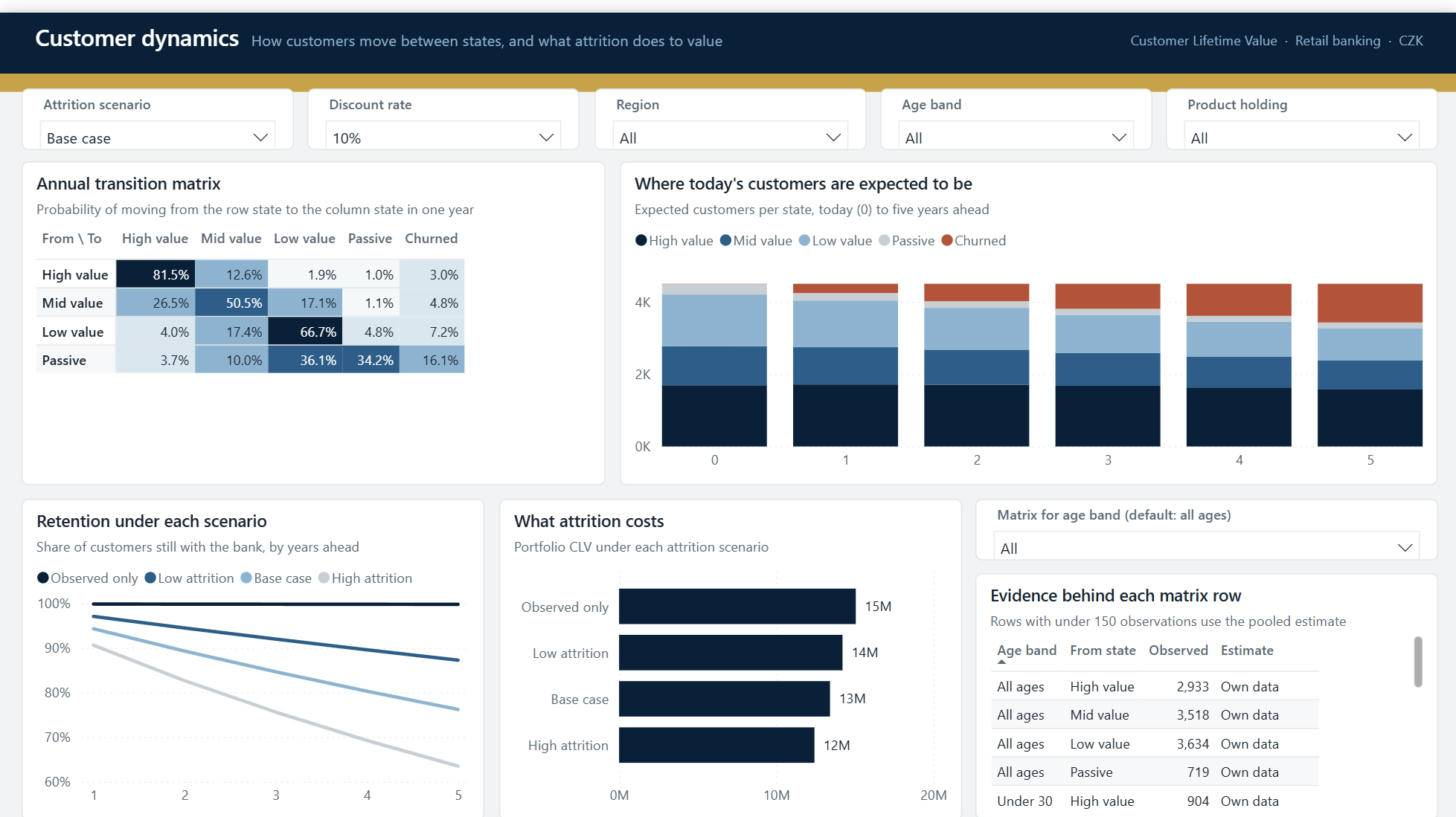

The dashboard page shown, as its layout file describes it:
{"tool":"powerbi","page":{"name":"Customer dynamics","canvas":[1280,720],"ordinal":1},"visuals":[{"type":"textbox","box":[0,0,1280,54],"z":1000},{"type":"textbox","box":[0,54,1280,3],"z":2000},{"type":"textbox","box":[20,0,760,54],"z":3000},{"type":"textbox","box":[840,8,420,44],"z":4000},{"type":"slicer","fields":{"Values":["Scenario.Scenario"]},"box":[20,66,238.4,54],"z":5000},{"type":"slicer","fields":{"Values":["Discount Rate.Discount rate"]},"box":[270.4,66,238.4,54],"z":6000},{"type":"slicer","fields":{"Values":["Customer.Region"]},"box":[520.8,66,238.4,54],"z":7000},{"type":"slicer","fields":{"Values":["Customer.Age band"]},"box":[771.2,66,238.4,54],"z":8000},{"type":"slicer","fields":{"Values":["Customer.Product holding"]},"box":[1021.6,66,238.4,54],"z":9000},{"type":"pivotTable","title":"Annual transition matrix","fields":{"Rows":["Transition Matrix.From state"],"Columns":["Transition Matrix.To state"],"Values":["Key Measures.Transition probability"]},"box":[20,130,511.7,284],"z":10000},{"type":"columnChart","title":"Where today''s customers are expected to be","fields":{"Category":["State Projection.Years ahead"],"Series":["State.State"],"Y":["Key Measures.Expected customers"]},"box":[543.7,130,716.3,284],"z":11000},{"type":"lineChart","title":"Retention under each scenario","fields":{"Category":["CLV Projection.Years ahead"],"Series":["Scenario.Scenario"],"Y":["Key Measures.Retention all scenarios"]},"box":[20,426,405.3,282],"z":12000},{"type":"clusteredBarChart","title":"What attrition costs","fields":{"Category":["Scenario.Scenario"],"Y":["Key Measures.CLV all scenarios"]},"box":[437.3,426,405.3,282],"z":13000},{"type":"slicer","fields":{"Values":["Transition Matrix.Matrix age band"]},"box":[854.7,426,405.3,54],"z":14000},{"type":"tableEx","title":"Evidence behind each matrix row","fields":{"Values":["Transition Matrix.Matrix age band","Transition Matrix.From state","Transition Matrix.Observed transitions from","Transition Matrix.Estimate source"]},"box":[854.7,492,405.3,216],"z":15000}]}

Visuals, with their boxes in screenshot pixels (x1, y1, x2, y2), scaled from the page's 1280x720 canvas onto the 1456x817 screenshot:
textbox: [0, 0, 1455, 61]
textbox: [0, 61, 1455, 65]
textbox: [23, 0, 887, 61]
textbox: [956, 9, 1433, 59]
slicer - Scenario.Scenario: [23, 75, 294, 136]
slicer - Discount Rate.Discount rate: [308, 75, 579, 136]
slicer - Customer.Region: [592, 75, 864, 136]
slicer - Customer.Age band: [877, 75, 1148, 136]
slicer - Customer.Product holding: [1162, 75, 1433, 136]
"Annual transition matrix" pivotTable: [23, 148, 605, 470]
"Where today''s customers are expected to be" columnChart: [618, 148, 1433, 470]
"Retention under each scenario" lineChart: [23, 483, 484, 803]
"What attrition costs" clusteredBarChart: [497, 483, 958, 803]
slicer - Transition Matrix.Matrix age band: [972, 483, 1433, 545]
"Evidence behind each matrix row" tableEx: [972, 558, 1433, 803]
